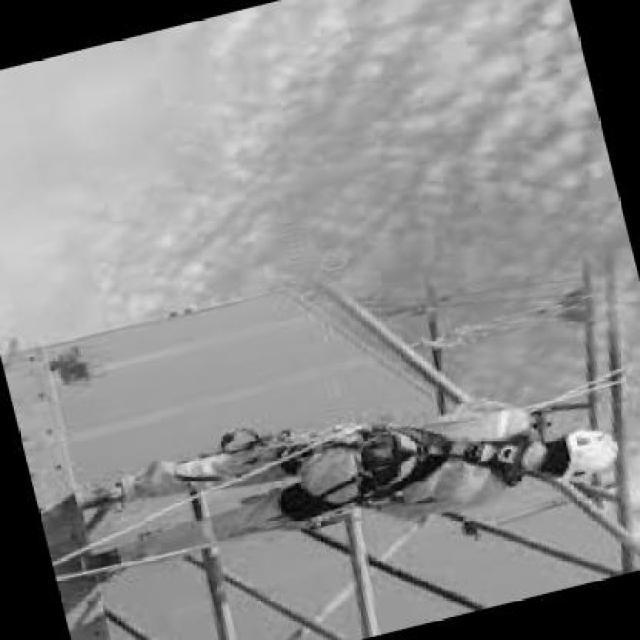Arnes_seguridad: (277, 377, 548, 545)
